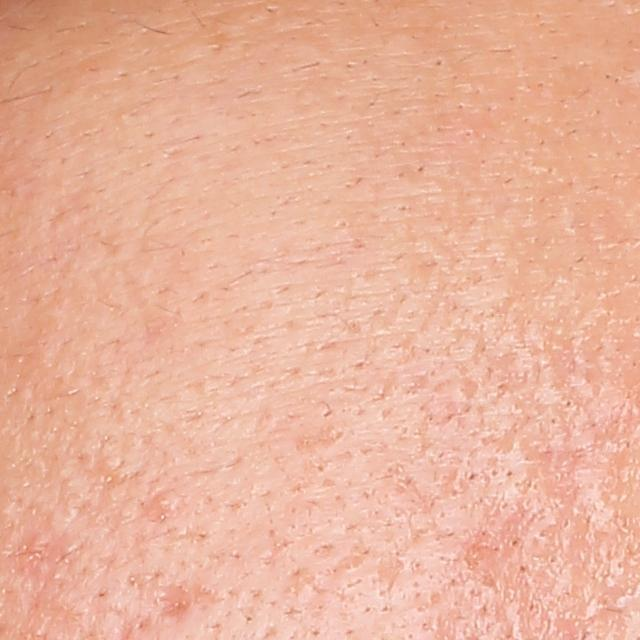atrophic_scar: (158, 586, 195, 620)
comedo: (151, 491, 171, 514), (430, 54, 448, 69)
